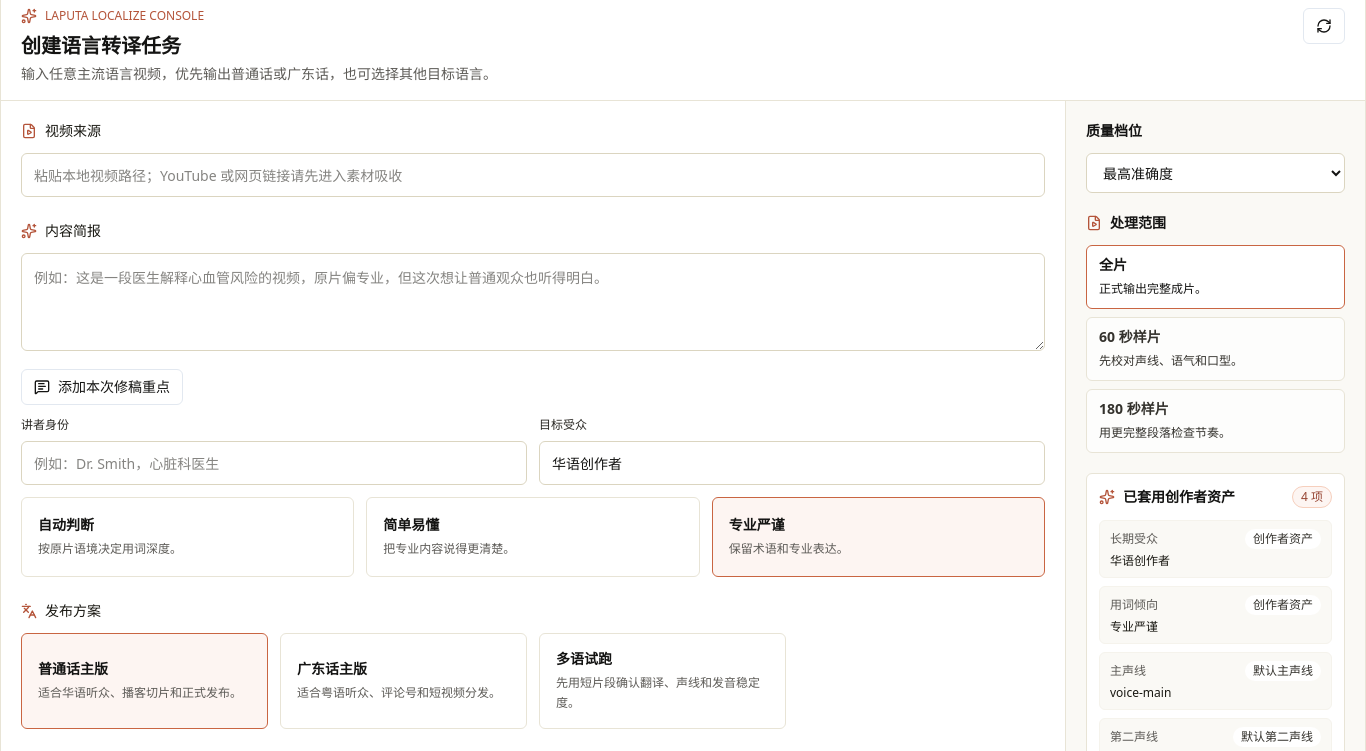
Test case: DubbingForm creator assets › shows run scope and applied long-term assets before submitting
Check: the text "4 项" is shown, box [1292,486,1332,508]
Click the button "60 秒样片 先校对声线、语气和口型。" at coordinates (1216, 349), box [1086,317,1345,381]
(page scrolled)
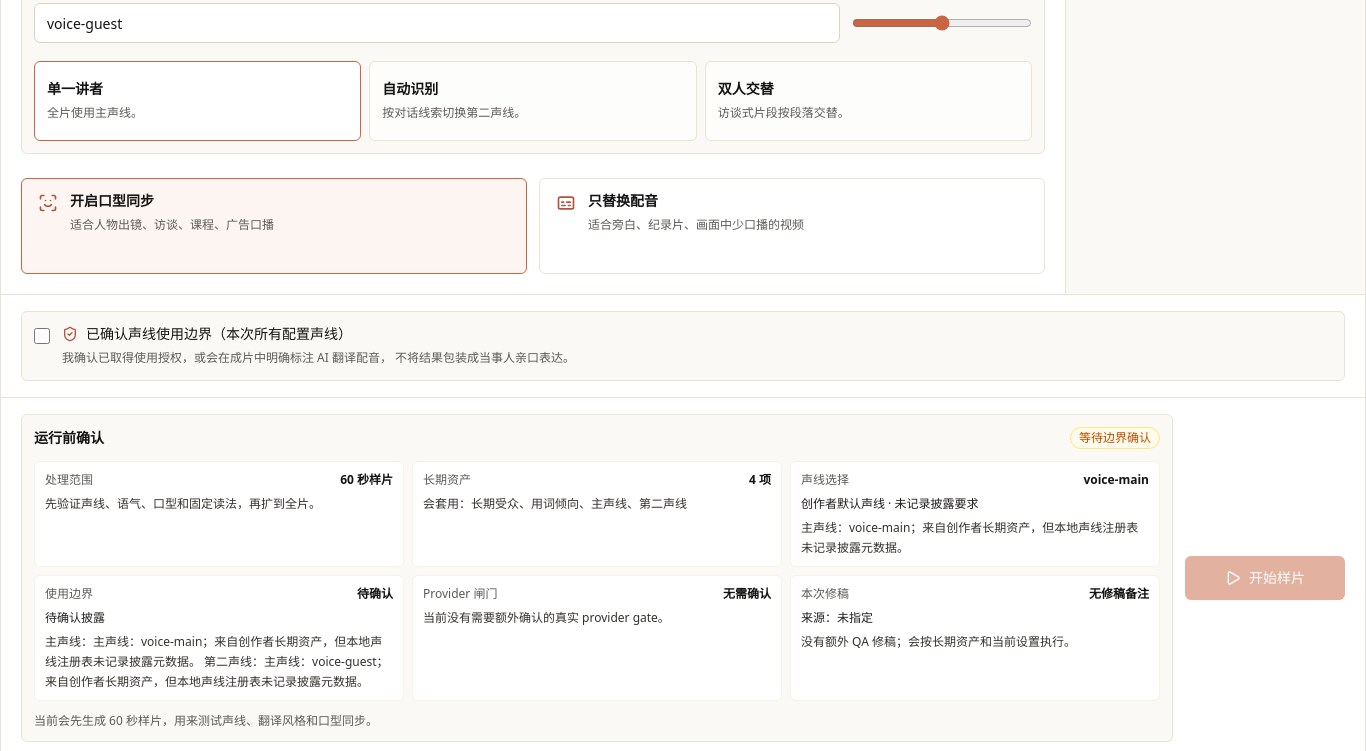
Check: the text "先验证声线、语气、口型和固定读法，再扩到全片。" is shown, box [45,495,321,512]
Check: the button "开始样片" is shown, box [1185,556,1345,600]
